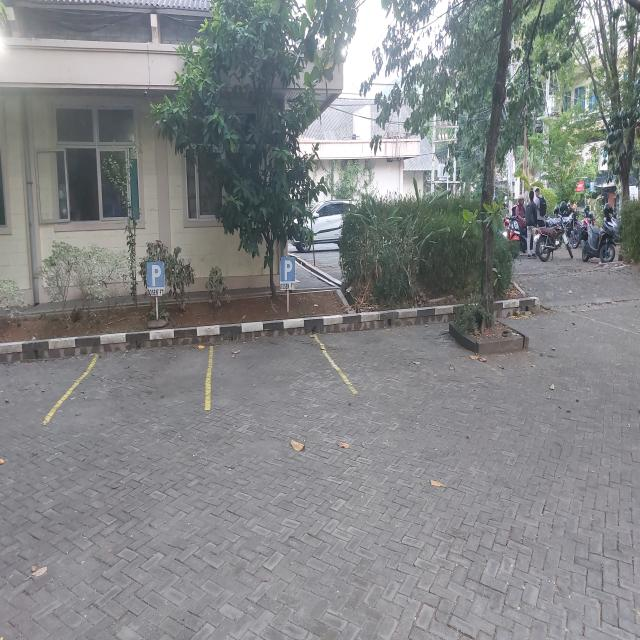empty: (311, 321, 501, 392), (44, 343, 214, 422), (205, 328, 356, 407), (0, 359, 96, 425)
